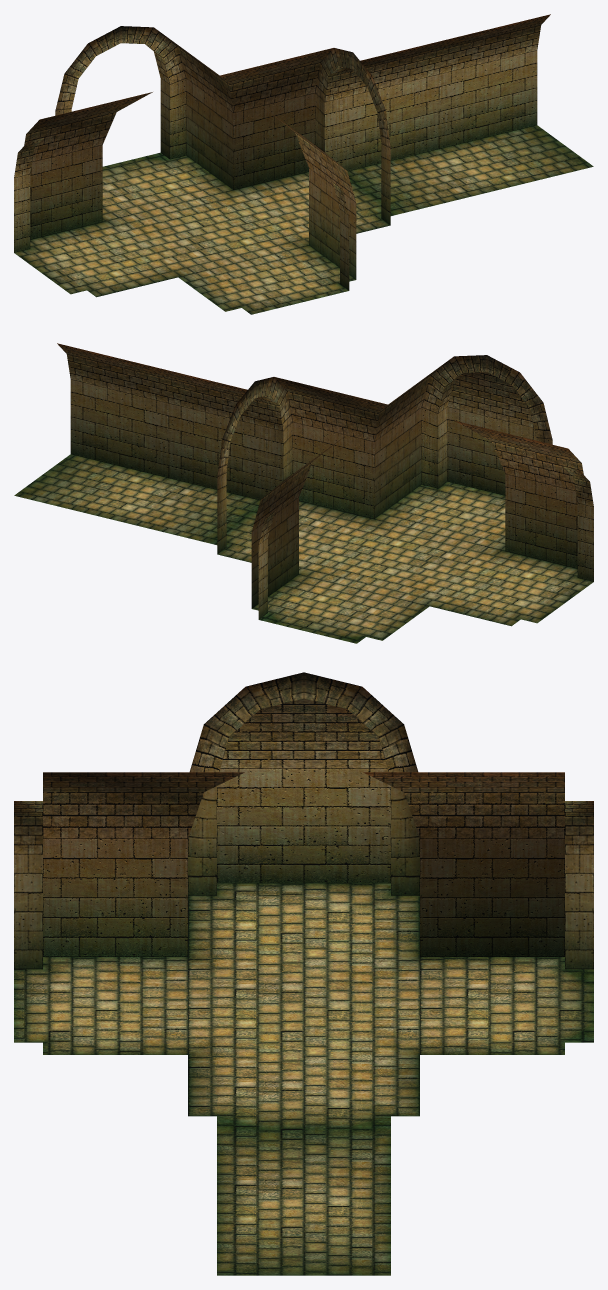
File: Mission12_Catacomb02_A.glb
3 views of the same model, one above another, from view 1: azimuth 30°, elevation 25°; view 2: azimuth 150°, elevation 25°; view 3: azimuth 270°, elevation 25° (orthographic). The views are drawn at different scales.
Parts seen in each view (by area): view 1: MISSION12_CATACOMB02_A; view 2: MISSION12_CATACOMB02_A; view 3: MISSION12_CATACOMB02_A.
Boxes of the visible parts, x1,y1,x2,y2 form: MISSION12_CATACOMB02_A: (14, 14, 593, 314); MISSION12_CATACOMB02_A: (14, 343, 593, 643); MISSION12_CATACOMB02_A: (14, 672, 593, 1275).
Bounding box in the file's own units: 16 × 4.25 × 10.
3 materials, 3 textured.
